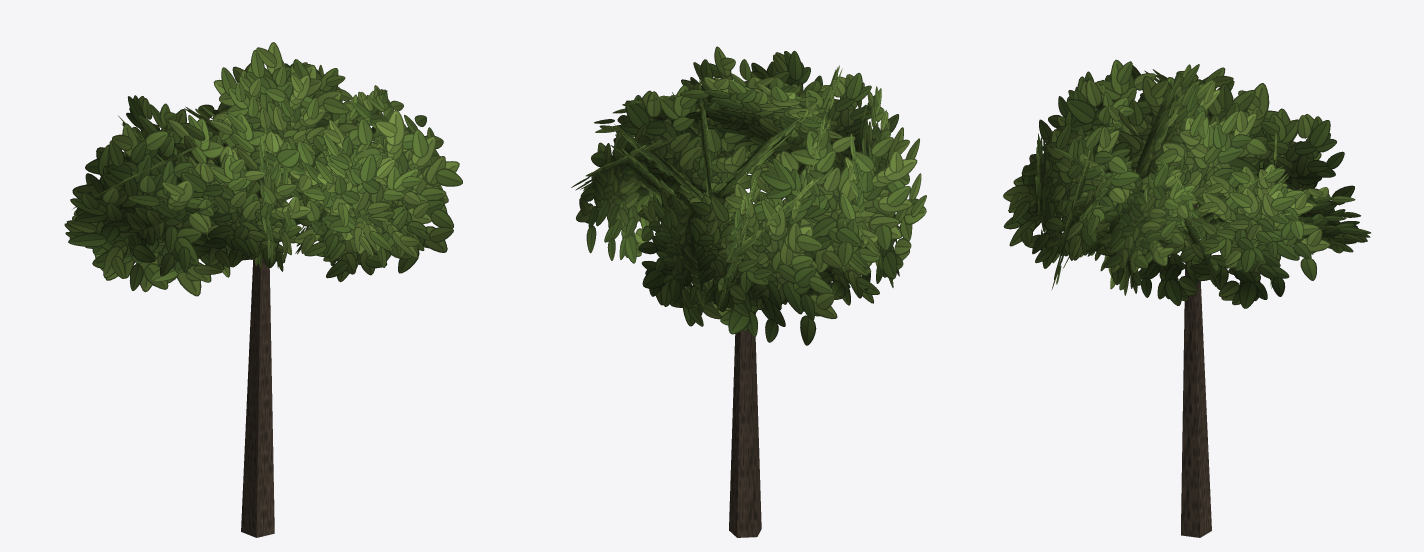
File: quercia_3_leggero.glb
3 views of the same model, side by side, from view 1: azimuth 30°, elevation 25°; view 2: azimuth 150°, elevation 25°; view 3: azimuth 270°, elevation 25° (orthographic). The views are drawn at different scales.
Visible parts, largest first — view 1: quercia_3_leggero; view 2: quercia_3_leggero; view 3: quercia_3_leggero.
Boxes of the visible parts, x1,y1,x2,y2 form: quercia_3_leggero: (64,42,462,537); quercia_3_leggero: (571,46,926,537); quercia_3_leggero: (1003,59,1370,537).
Size of the model in its own units: 9.31 by 11.15 by 9.1.
Materials: 2 (2 with a texture image).
